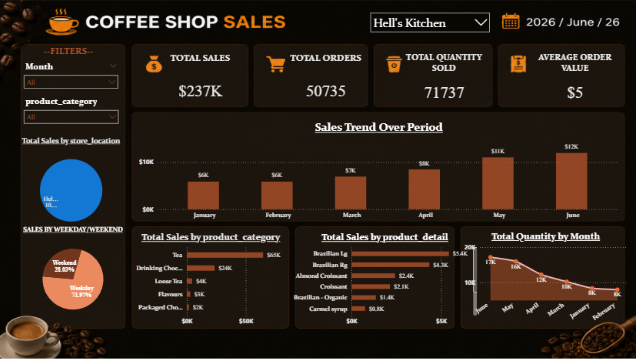

Layout of this report page (visuals, bound fields, positions):
{"tool":"powerbi","page":{"name":"Page 1","canvas":[1280,720],"ordinal":0},"visuals":[{"type":"card","title":"TOTAL SALES","fields":{"Values":["coffee_sales.Total Sales"]},"box":[280,83.3,240,150],"z":0},{"type":"card","title":"TOTAL ORDERS","fields":{"Values":["coffee_sales.Total Orders"]},"box":[572.2,83.7,157.5,150.1],"z":1000},{"type":"card","title":"TOTAL QUANTITY SOLD","fields":{"Values":["coffee_sales.Total Quantity"]},"box":[796.7,83.3,181.7,136.7],"z":2000},{"type":"card","title":"AVERAGE ORDER VALUE","fields":{"Values":["coffee_sales.Average Order Value"]},"box":[1056.7,83.3,185,136.7],"z":3000},{"type":"slicer","fields":{"Values":["coffee_sales.Month"]},"box":[38.1,102.1,207.9,81.2],"z":4000},{"type":"pieChart","title":"SALES BY WEEKDAY/WEEKEND","fields":{"Category":["coffee_sales.WeekdayWeekend"],"Y":["coffee_sales.Total Sales"]},"box":[25.8,441.7,223.9,212.9],"z":5000},{"type":"slicer","fields":{"Values":["coffee_sales.product_category"]},"box":[38.1,172.3,209.2,75.1],"z":7000},{"type":"textbox","box":[71.9,83.6,130.6,38.2],"z":8000},{"type":"clusteredColumnChart","title":"Sales Trend Over Period","fields":{"Category":["coffee_sales.transaction_date.Variation.Date Hierarchy.Month"],"Y":["coffee_sales.Total Sales"]},"box":[271.9,220.3,969.6,221.5],"z":9000},{"type":"pieChart","fields":{"Category":["coffee_sales.store_location"],"Y":["coffee_sales.Total Sales"]},"box":[30.8,251,223.9,217.8],"z":10000},{"type":"clusteredBarChart","fields":{"Category":["coffee_sales.product_category"],"Y":["coffee_sales.Total Sales"]},"box":[254.7,441.7,334.7,212.9],"z":11000},{"type":"clusteredBarChart","fields":{"Category":["coffee_sales.product_detail"],"Y":["coffee_sales.Total Sales"]},"box":[580.8,441.7,377.7,212.9],"z":12000},{"type":"areaChart","fields":{"Category":["coffee_sales.Month"],"Y":["coffee_sales.Total Quantity"]},"box":[921.2,440.8,336,214.6],"z":13000},{"type":"slicer","fields":{"Values":["coffee_sales.store_location"]},"box":[729.7,0,258.4,102.1],"z":13001}]}

Visuals, with their boxes in screenshot pixels (x1, y1, x2, y2), scaled from the page's 1280x720 canvas onto the 636x359 screenshot:
"TOTAL SALES" card: 139,42,258,116
"TOTAL ORDERS" card: 284,42,363,117
"TOTAL QUANTITY SOLD" card: 396,42,486,110
"AVERAGE ORDER VALUE" card: 525,42,617,110
slicer - coffee_sales.Month: 19,51,122,91
"SALES BY WEEKDAY/WEEKEND" pieChart: 13,220,124,326
slicer - coffee_sales.product_category: 19,86,123,123
textbox: 36,42,101,61
"Sales Trend Over Period" clusteredColumnChart: 135,110,617,220
pieChart - coffee_sales.store_location x coffee_sales.Total Sales: 15,125,127,234
clusteredBarChart - coffee_sales.product_category x coffee_sales.Total Sales: 127,220,293,326
clusteredBarChart - coffee_sales.product_detail x coffee_sales.Total Sales: 289,220,476,326
areaChart - coffee_sales.Month x coffee_sales.Total Quantity: 458,220,625,327
slicer - coffee_sales.store_location: 363,0,491,51
